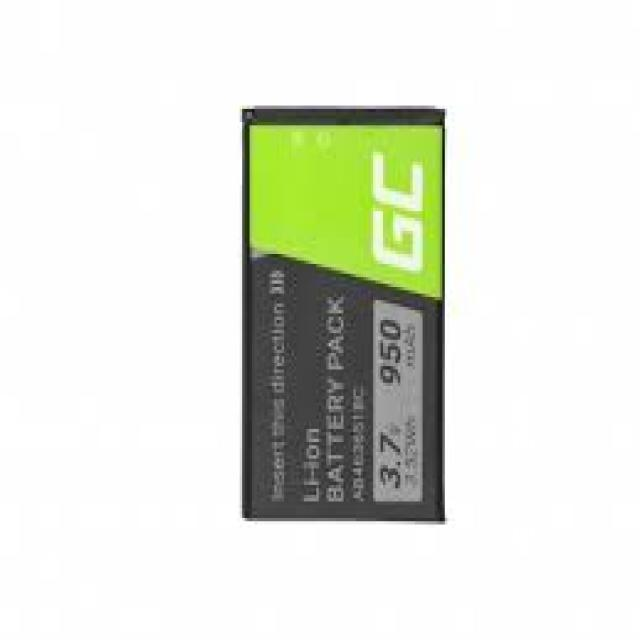non-organic waste: (236, 108, 449, 523)
